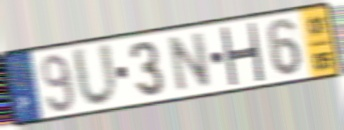3: (129, 40, 167, 97)
6: (265, 16, 303, 79)
9: (39, 51, 77, 114)
H: (218, 22, 267, 87)
N: (168, 29, 213, 95)
U: (69, 40, 121, 110)
